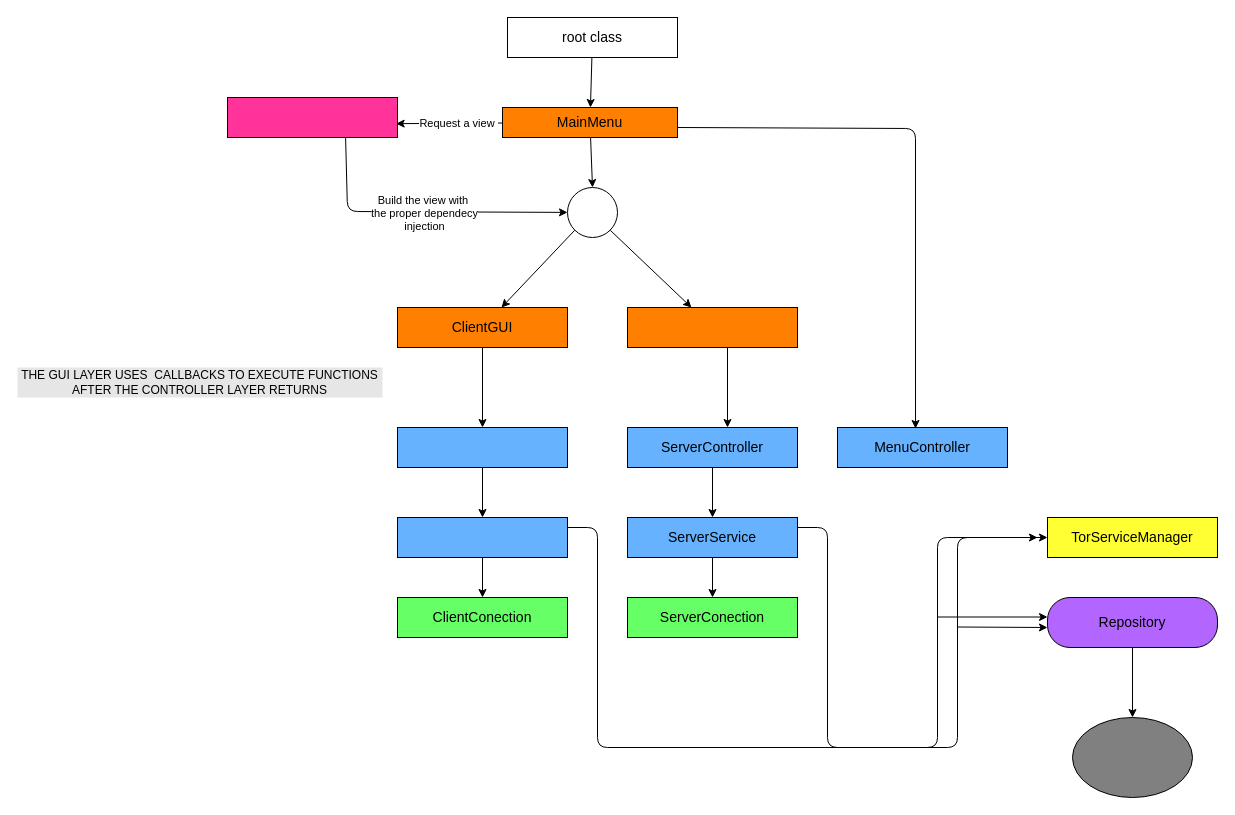
Some shapes in this 1235 by 815 pixel diagram are drawn without their labels. Each missing label, with the centre of its shape:
"ApplicationController" belongs at point (312, 117).
"ClientController" belongs at point (482, 447).
"ClientService" belongs at point (482, 537).
"DATA BASE" belongs at point (1132, 757).
"ServerGUI" belongs at point (712, 327).
